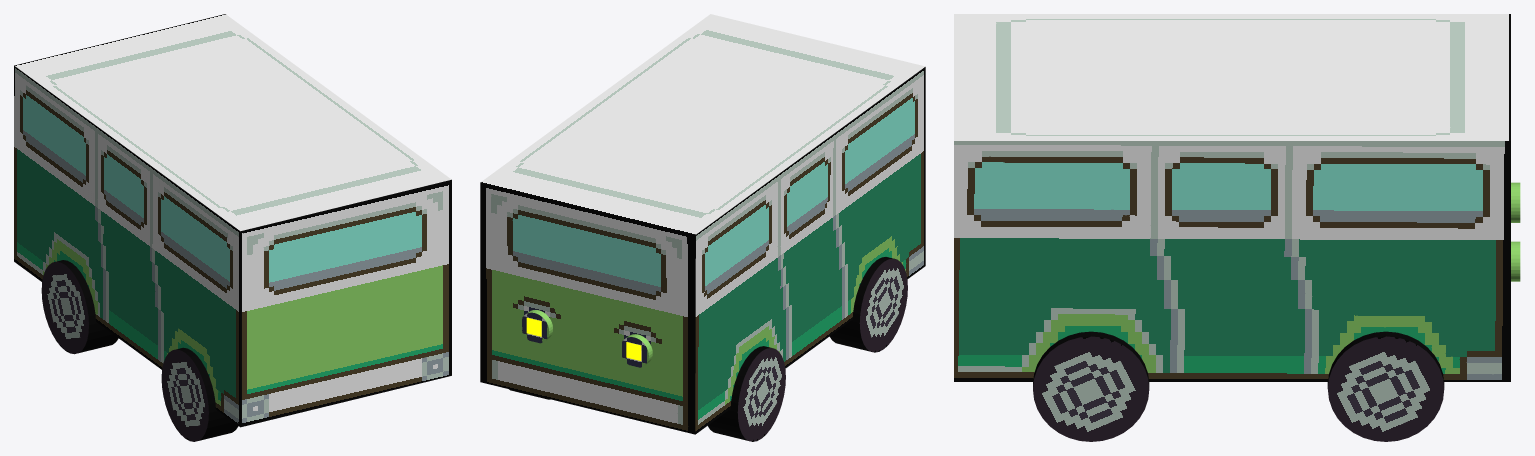
Rendered from bus_green.glb.
3 renders of one model, left to right at view 1: azimuth 30°, elevation 25°; view 2: azimuth 150°, elevation 25°; view 3: azimuth 270°, elevation 25°, orthographic. The views are drawn at different scales.
Parts seen in each view (by area): view 1: 立方体.001, wheel, wheel.001; view 2: 立方体.001, wheel, wheel.001, 柱体, 柱体.001; view 3: 立方体.001, wheel.002, wheel.003.
Part boxes in pixels (x1,y1,x2,y2): 立方体.001: (14, 14, 451, 427); wheel: (41, 260, 118, 354); wheel.001: (161, 347, 238, 441); 立方体.001: (480, 14, 925, 434); wheel: (708, 346, 785, 441); wheel.001: (829, 257, 907, 352); 柱体: (520, 310, 552, 343); 柱体.001: (620, 334, 652, 367); 立方体.001: (954, 14, 1510, 381); wheel.002: (1327, 331, 1444, 441); wheel.003: (1033, 331, 1149, 441).
Bounding box in the file's own units: 1.1 × 1.12 × 1.95.
2 materials, 1 textured.
